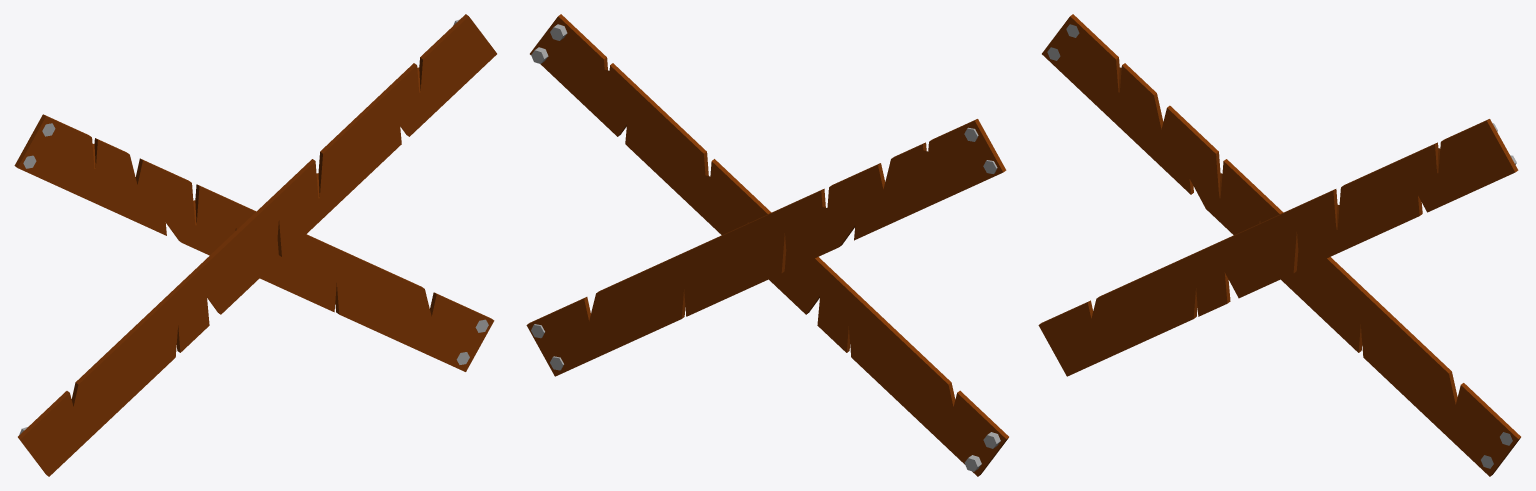
File: barrage.glb
The picture shows the model from 3 angles, left to right: view 1: azimuth 30°, elevation 25°; view 2: azimuth 150°, elevation 25°; view 3: azimuth 330°, elevation 25°; orthographic projection.
Visible parts, largest first — view 1: barrage; view 2: barrage; view 3: barrage.
Part boxes in pixels (x1,y1,x2,y2): barrage: [14, 14, 496, 476]; barrage: [526, 14, 1008, 476]; barrage: [1038, 14, 1520, 476].
Bounding box in the file's own units: 1.13 × 0.8079 × 0.0297.
